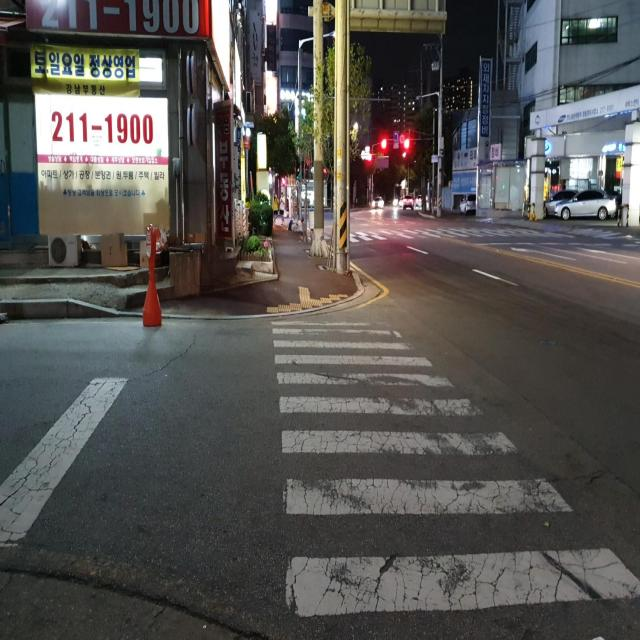횡단보도: (270, 319, 640, 640), (338, 224, 584, 243)
